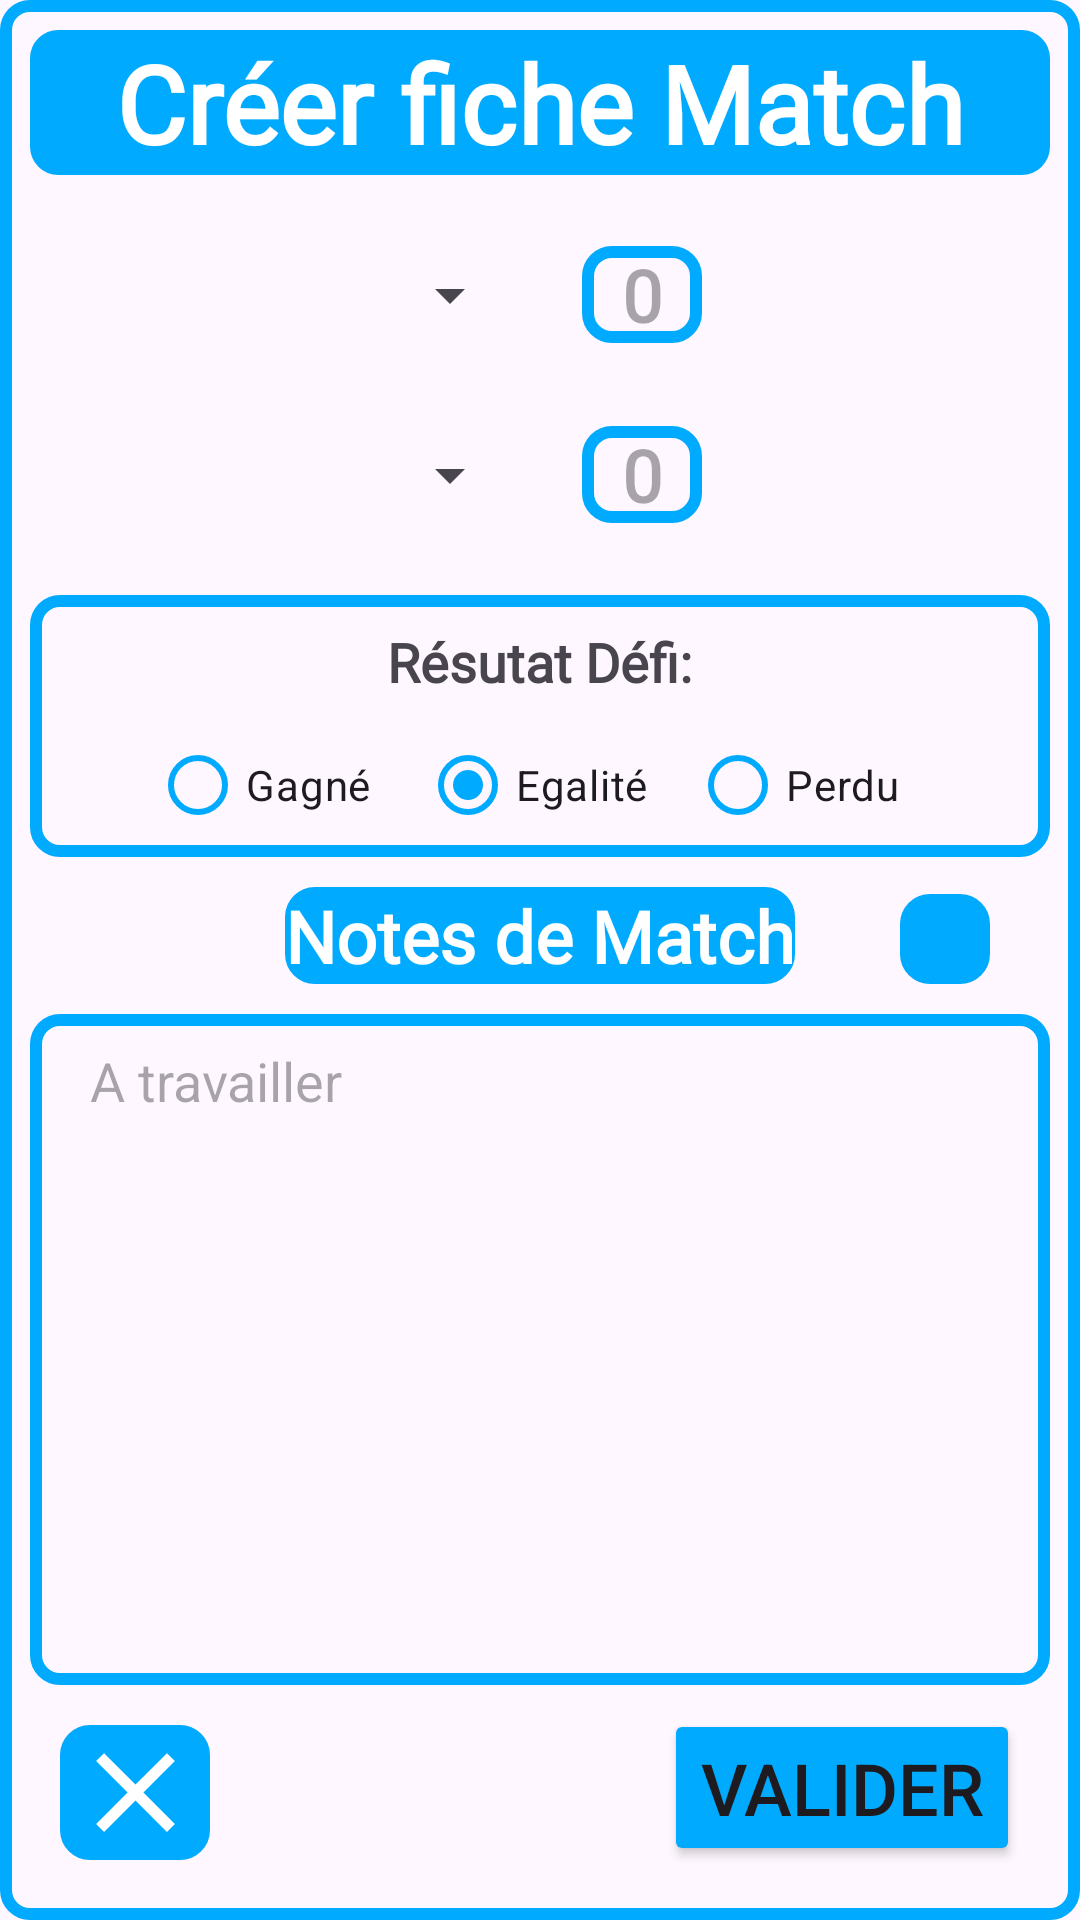

Screen size 1080 × 1920. Icon name, then its center in pixels as (x,y):
close: (135,1792)
